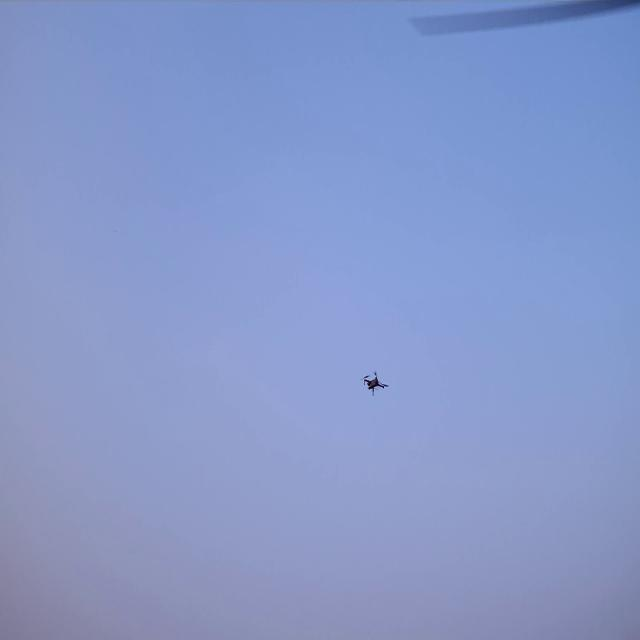UAV: (360, 369, 390, 398)
